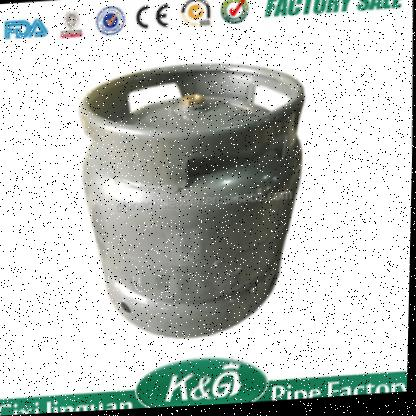gas-tank: (58, 43, 331, 357)
